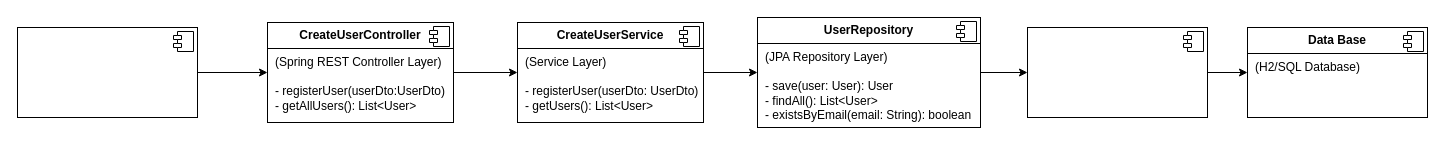
This 1445x145 diagram has some shape labels left out. The box of each missing label's shape, as (x1, y1, x2, y2) in pixels:
Cliente (Postman/Browser/Front-end Application): (16, 26, 198, 118)
JPA Entities - User - Phone: (1026, 26, 1208, 118)
